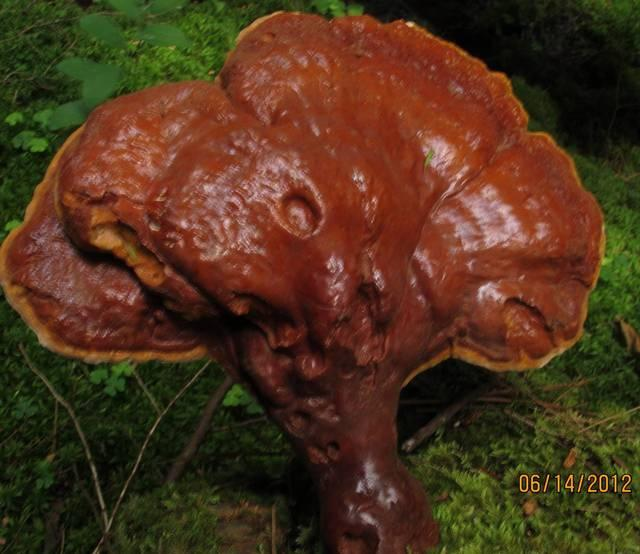Non-edible Mushroom: (0, 8, 607, 553)
